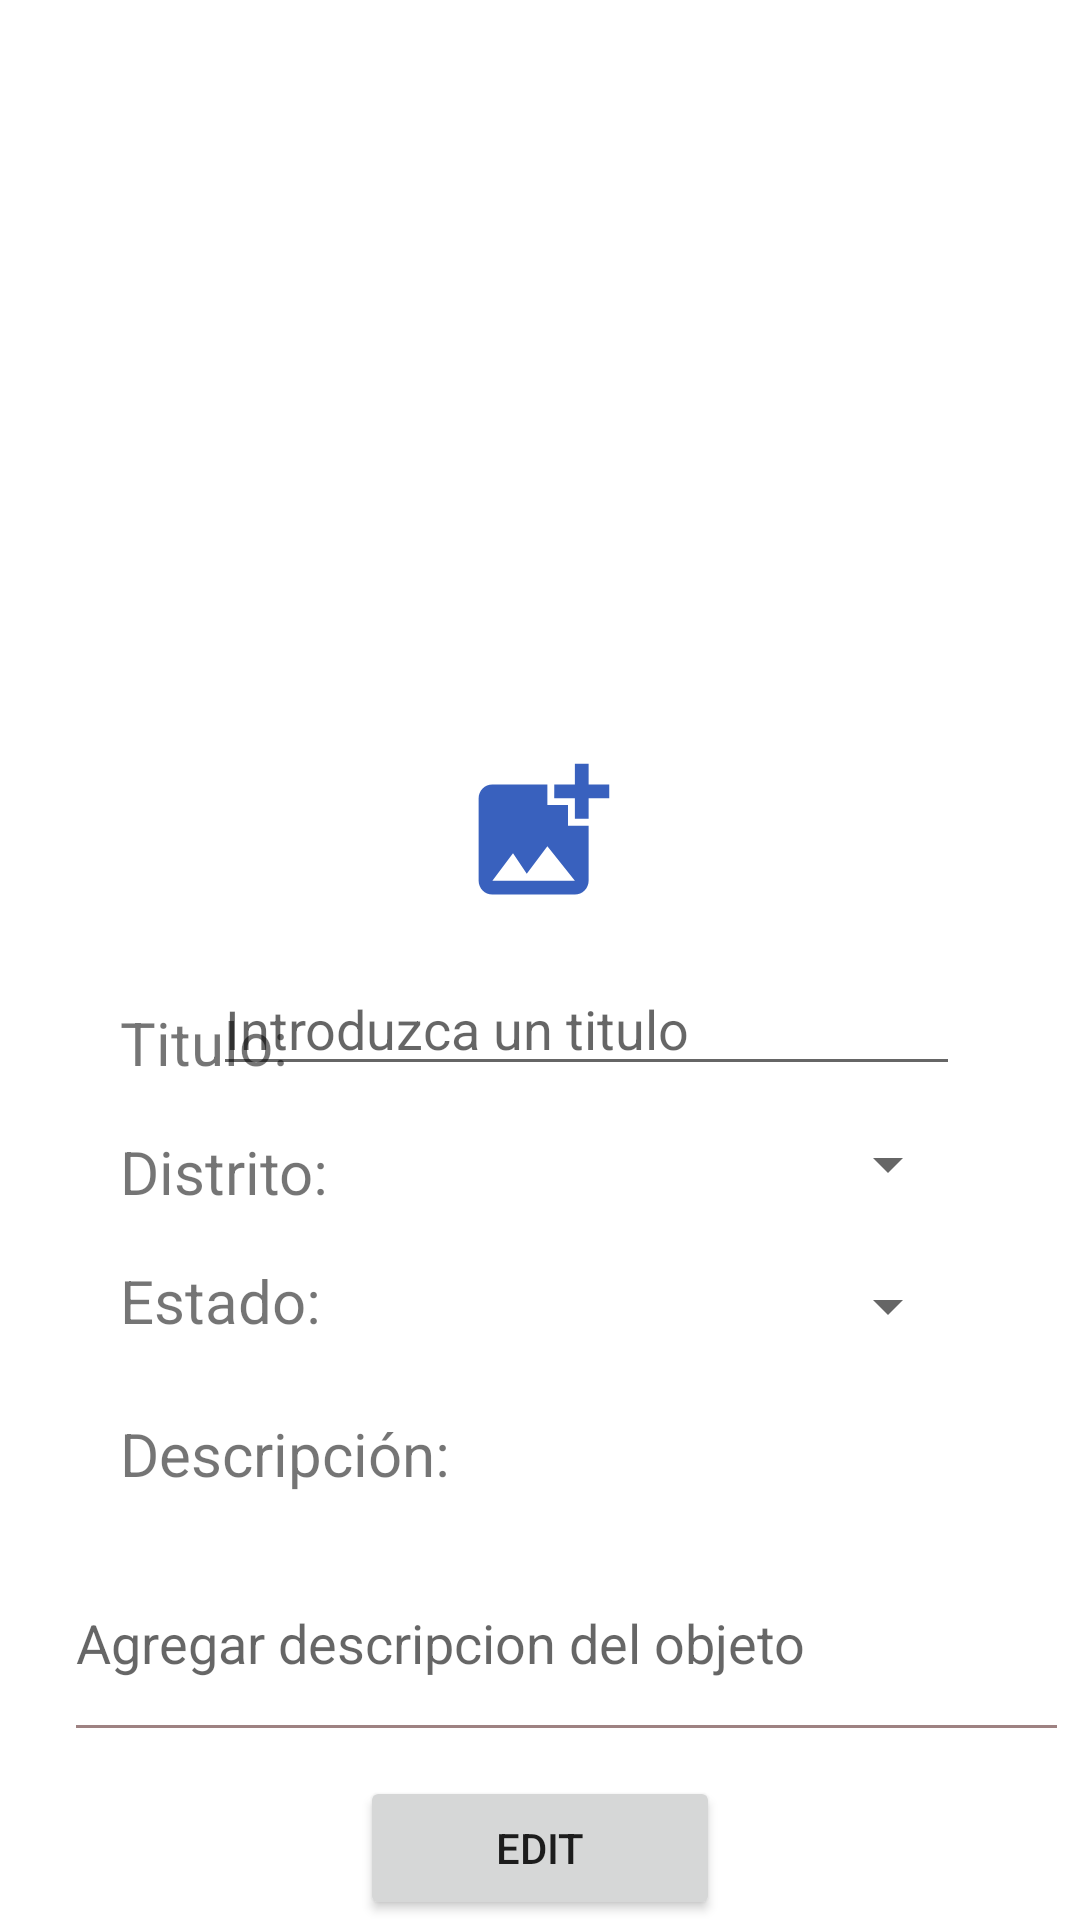

Screen size 1080×1920. Icon name, then its center in pixels as (x=x, y=y):
add photo alternate: (x=544, y=829)
